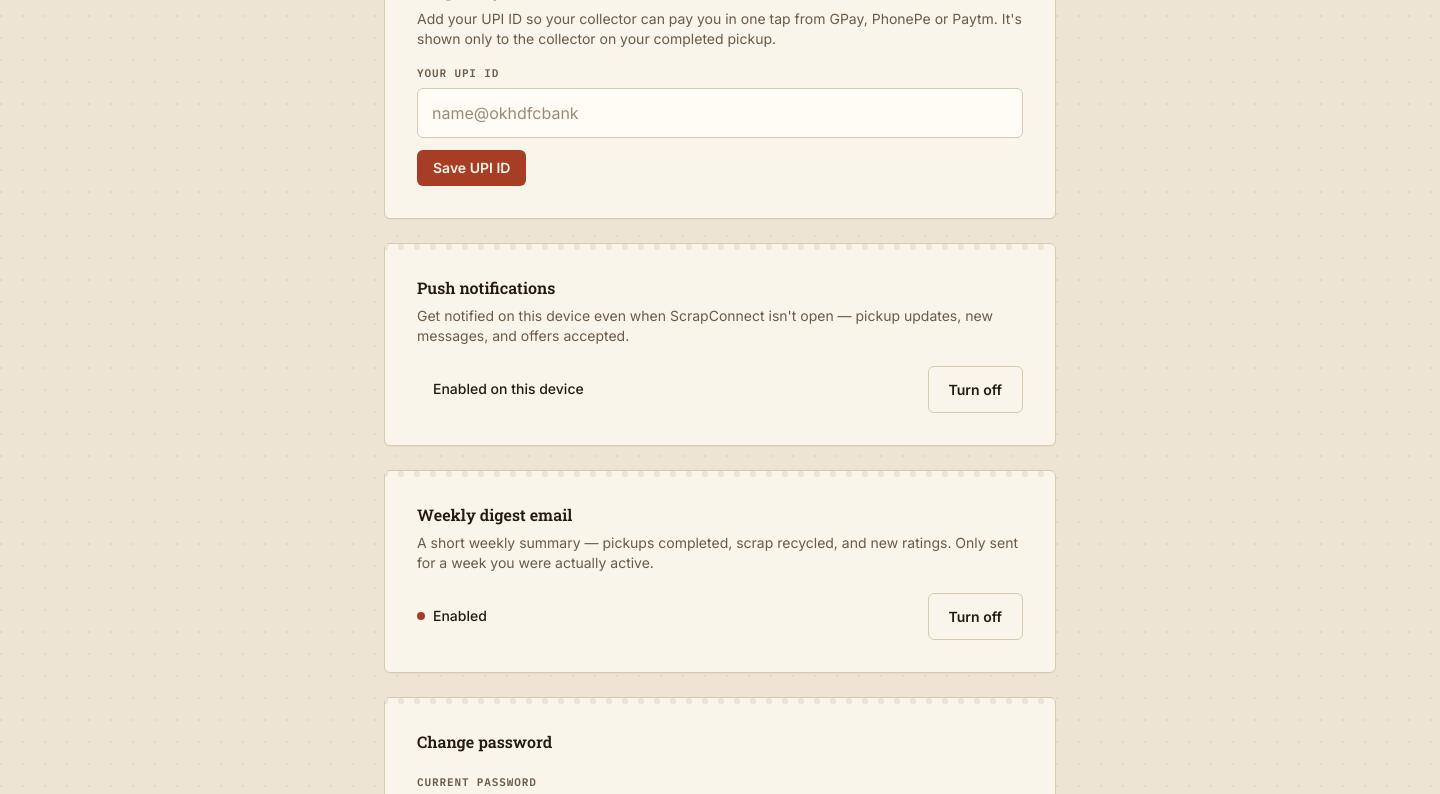
it: Profile — push notifications › disabling push flips the UI back to Currently off
(page scrolled)
Click the button "Turn off" in the row of "Enabled on this device". click: (975,389)
box: [928,366,1023,412]
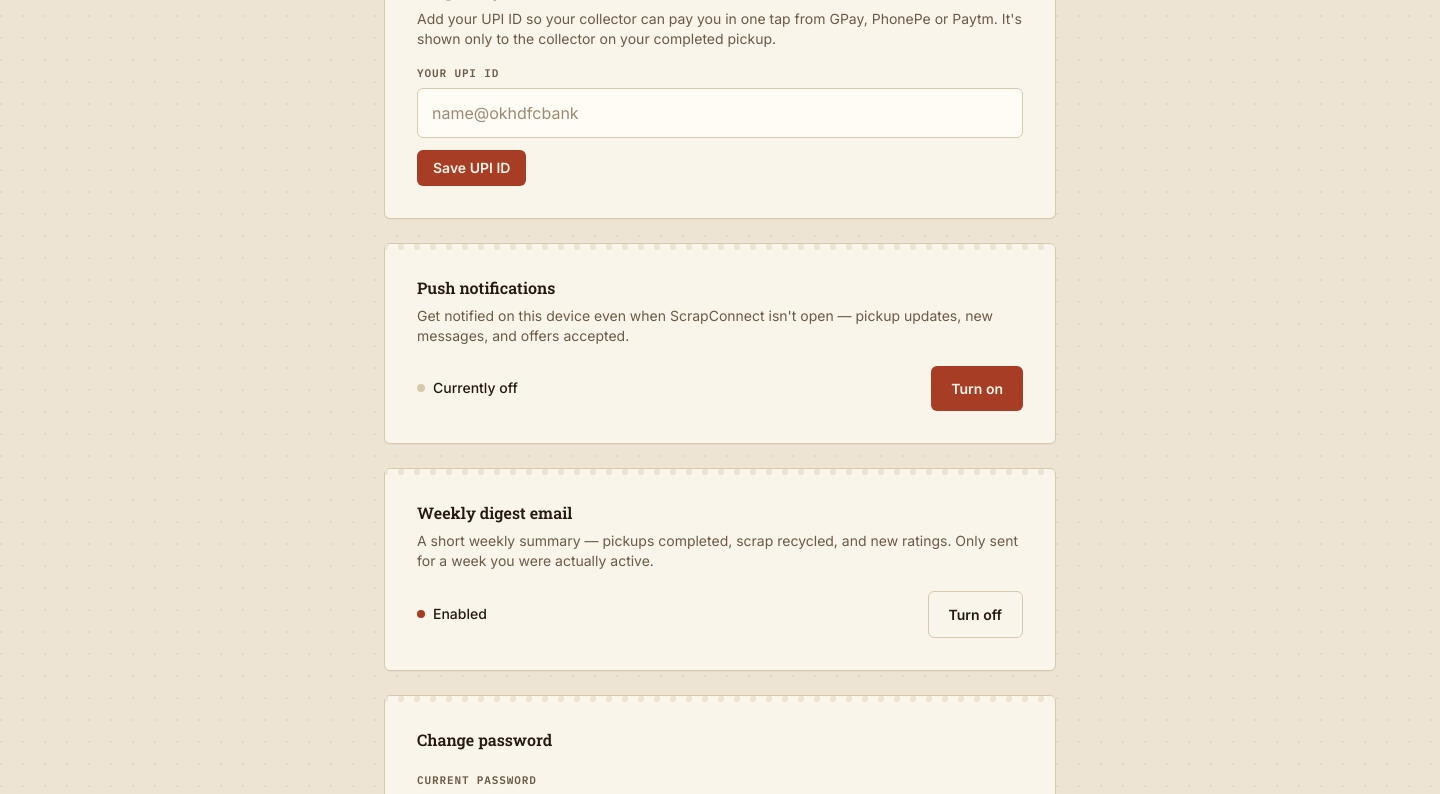
Expected: the text "Currently off" is shown, [417,378,518,398]
